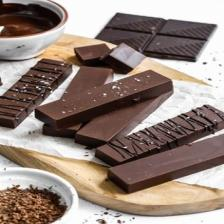brown: (96, 13, 217, 61), (0, 3, 61, 36), (75, 44, 110, 66), (9, 82, 51, 100)
